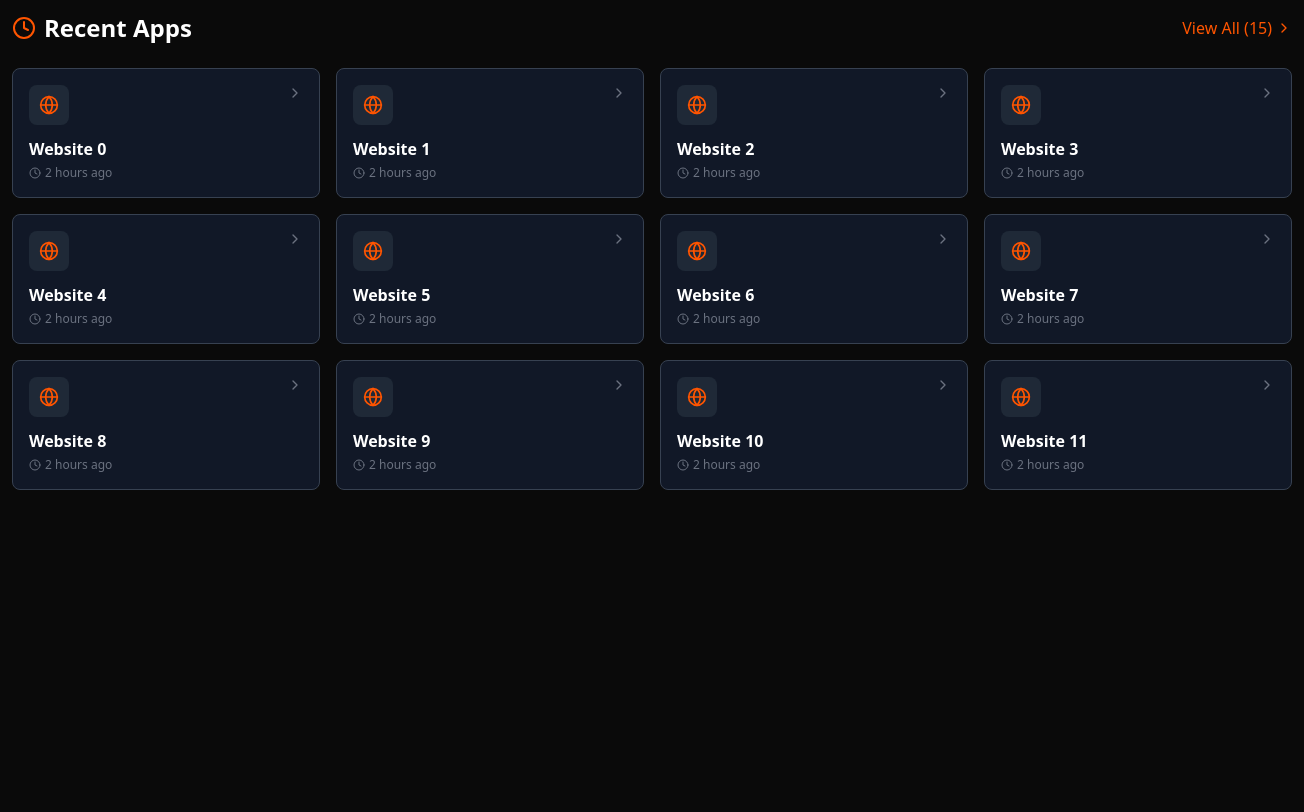
it: RecentApps › shows all websites when View All is clicked
Click the button "View All (15)" at (1237, 28), box [1182, 16, 1292, 40]
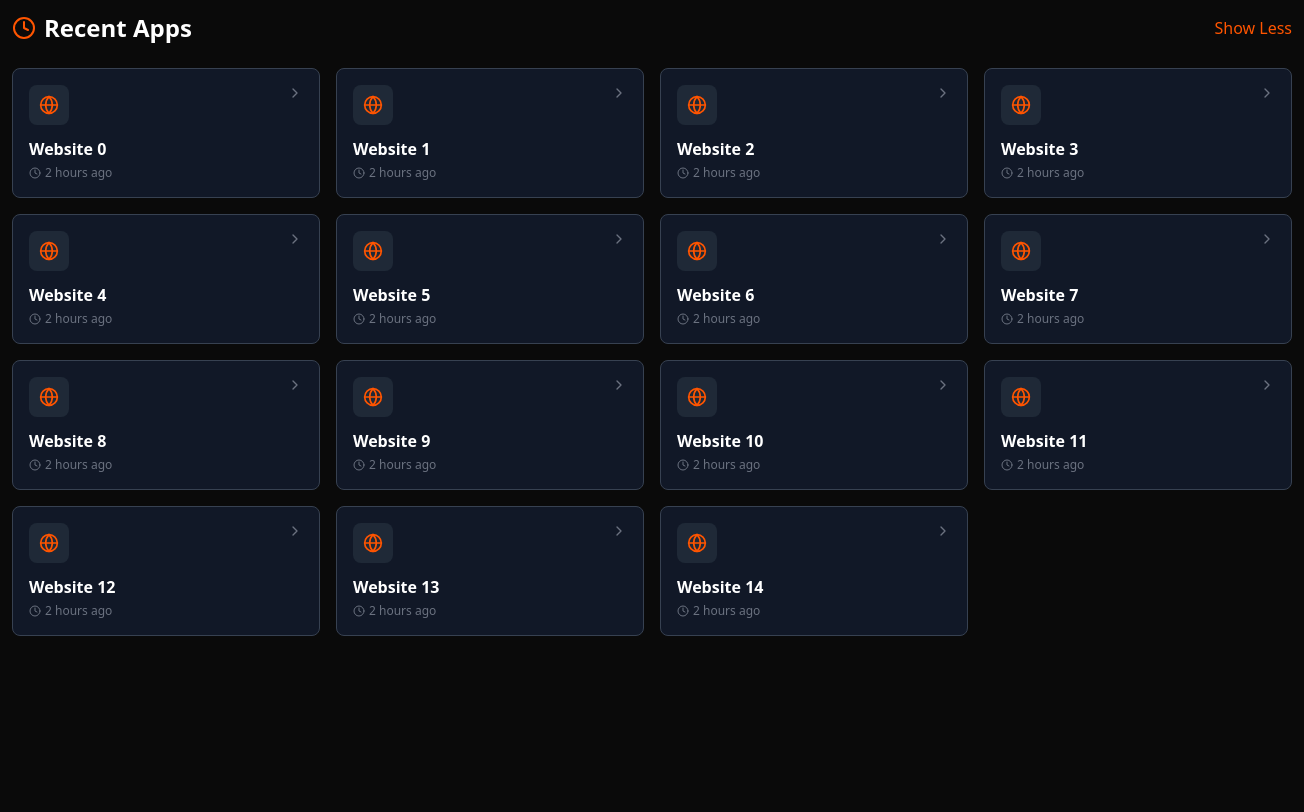
Expected: the button "Show Less" is shown, [1214, 16, 1292, 40]
